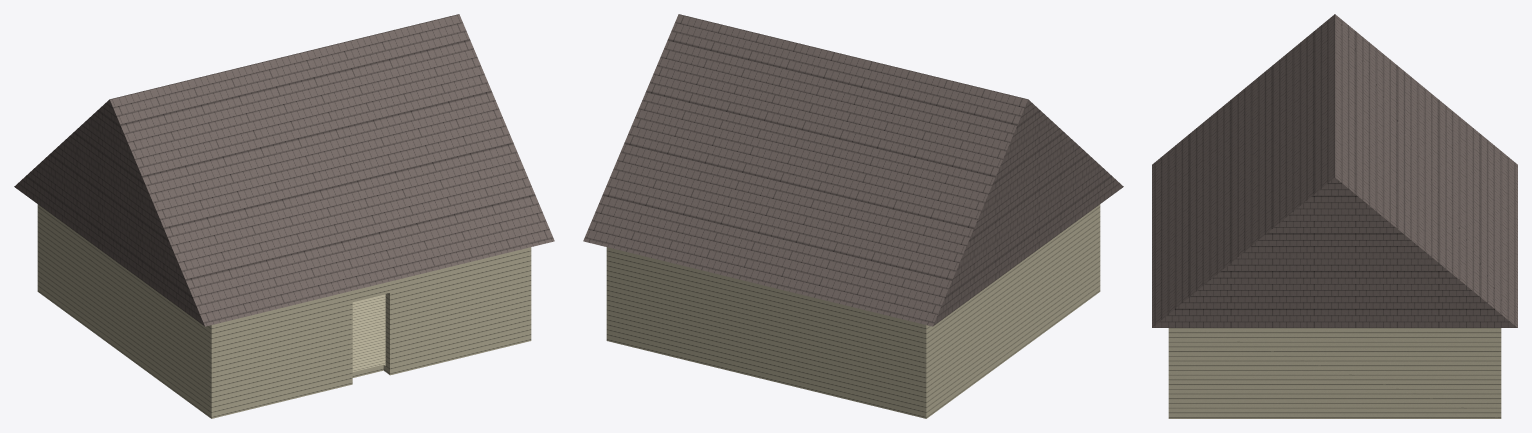
File: cape_cod.glb
3 renders of one model, left to right at view 1: azimuth 30°, elevation 25°; view 2: azimuth 150°, elevation 25°; view 3: azimuth 270°, elevation 25°, orthographic. The views are drawn at different scales.
Parts seen in each view (by area): view 1: cape_cod-col; view 2: cape_cod-col; view 3: cape_cod-col.
Part boxes in pixels (<box>): cape_cod-col: <box>14,14,554,418</box>; cape_cod-col: <box>583,14,1123,418</box>; cape_cod-col: <box>1152,14,1517,418</box>.
Size of the model in its own units: 9.3 by 6.6 by 8.8.
Materials: 2 (2 with a texture image).
